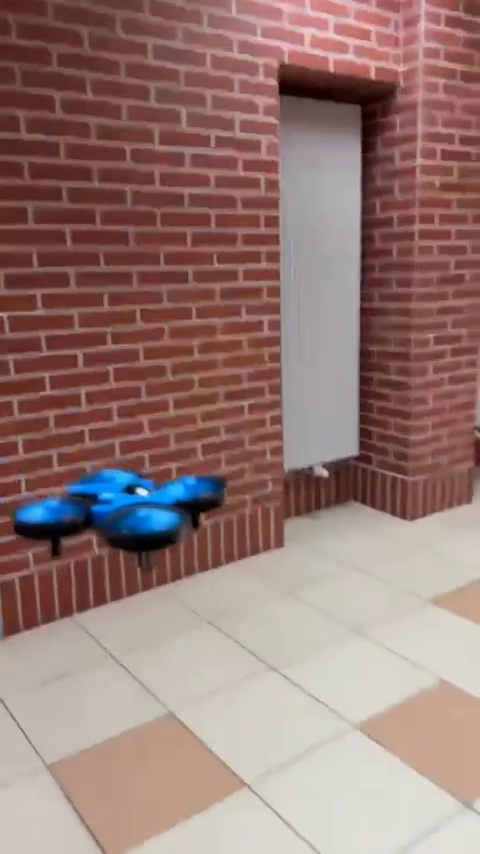drone: (20, 467, 224, 560)
